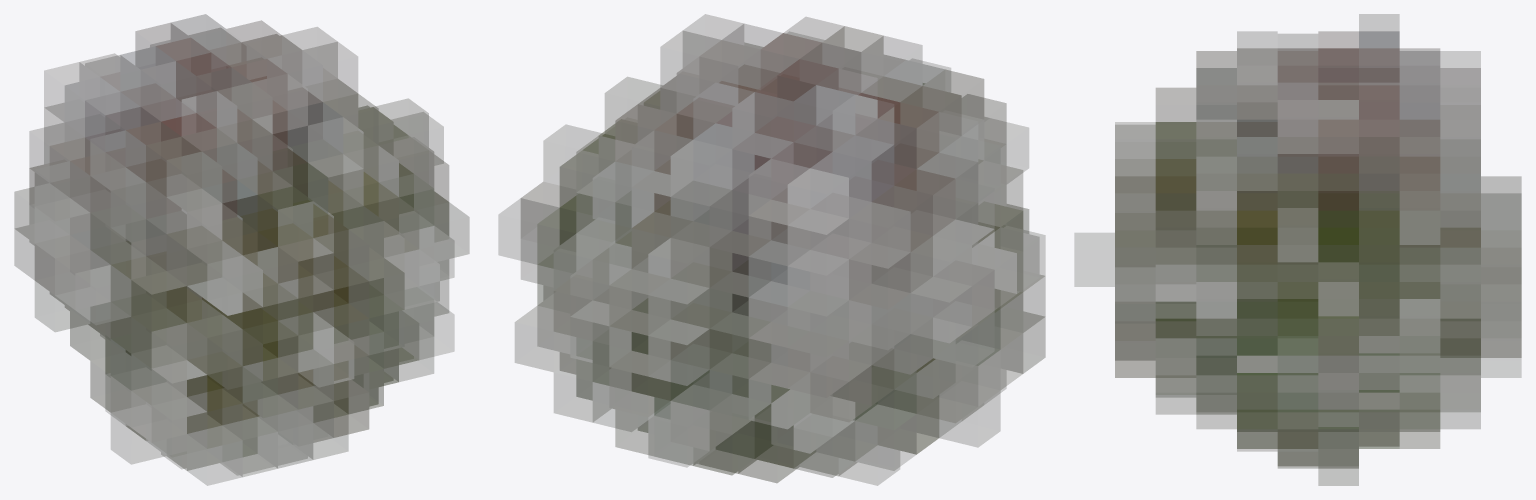
The model's file is iter_10.obj.
3 views of the same model, side by side, from view 1: azimuth 30°, elevation 25°; view 2: azimuth 150°, elevation 25°; view 3: azimuth 270°, elevation 25° (orthographic). The views are drawn at different scales.
Visible parts, largest first — view 1: iter_10; view 2: iter_10; view 3: iter_10.
Boxes of the visible parts, x1,y1,x2,y2 form: iter_10: (14, 14, 469, 485); iter_10: (499, 14, 1045, 485); iter_10: (1075, 14, 1521, 485).
Size of the model in its own units: 1.1 by 1 by 1.1.
